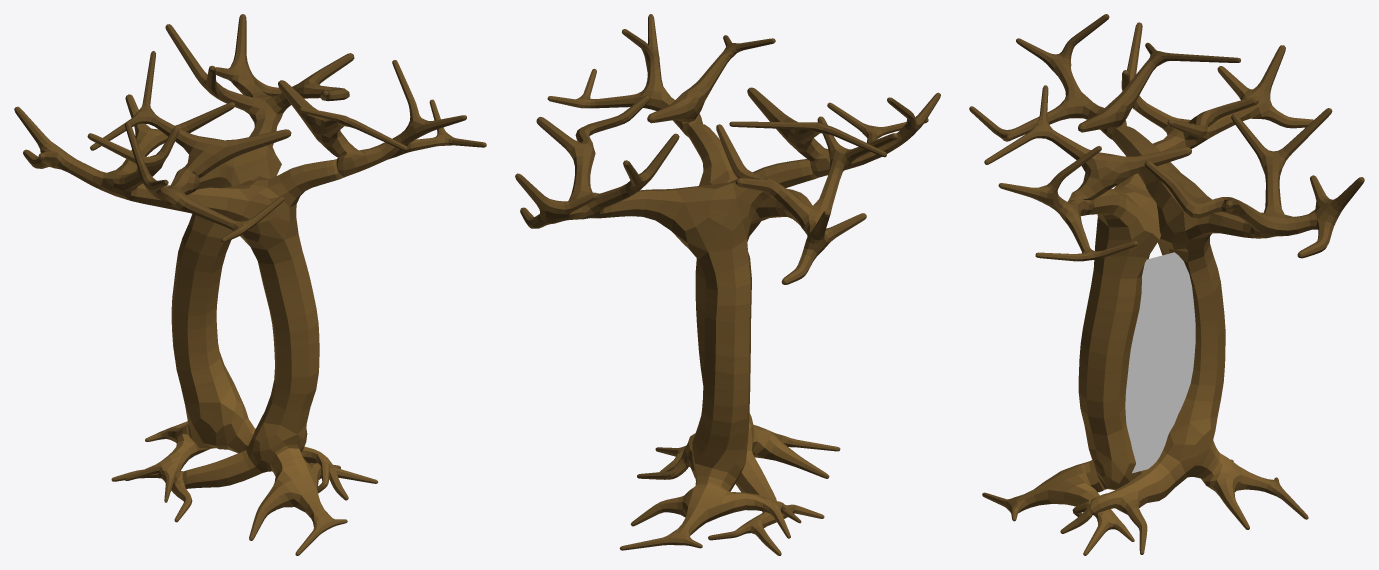
The model's file is twin_trees.glb.
3 renders of one model, left to right at view 1: azimuth 30°, elevation 25°; view 2: azimuth 150°, elevation 25°; view 3: azimuth 270°, elevation 25°, orthographic. The views are drawn at different scales.
Parts seen in each view (by area): view 1: Cube.009, Cube.006; view 2: Cube.006, Cube.009; view 3: Cube.006, Cube.009, shader.
Boxes of the visible parts, left/top/right/bottom form: Cube.009: left=14, top=60, right=486, bottom=555; Cube.006: left=90, top=14, right=354, bottom=502; Cube.006: left=515, top=87, right=940, bottom=550; Cube.009: left=547, top=14, right=897, bottom=555; Cube.006: left=969, top=14, right=1364, bottom=554; Cube.009: left=982, top=22, right=1313, bottom=555; shader: left=1125, top=252, right=1195, bottom=473.
Bounding box in the file's own units: 4.62 × 5.2 × 4.31.
1 material, 1 textured.
